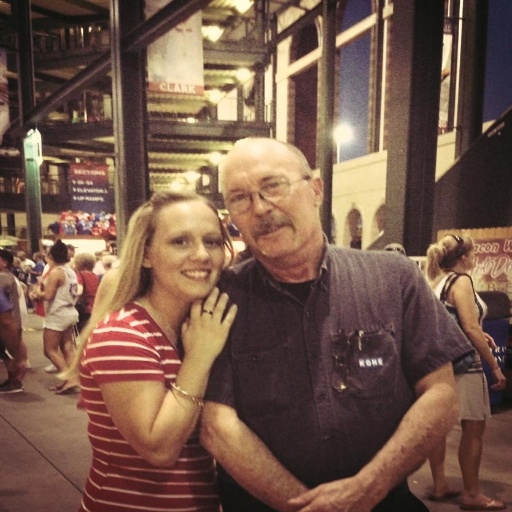hand: (184, 301, 230, 376), (284, 478, 376, 510), (488, 369, 505, 392), (481, 333, 498, 350)
